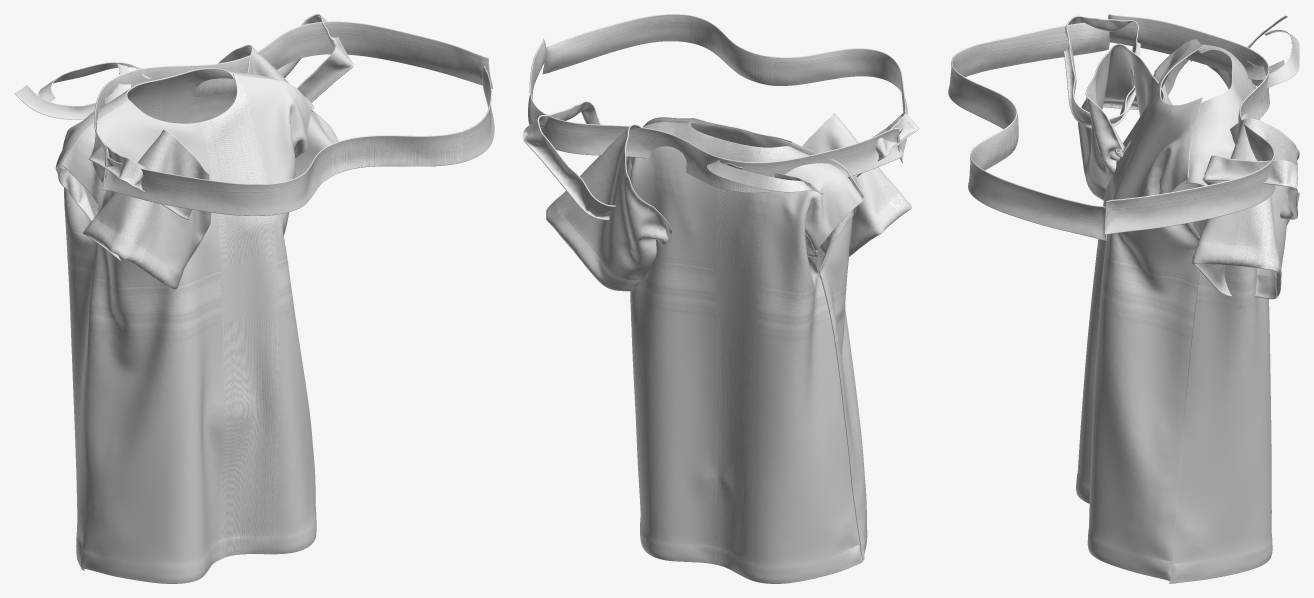
The model's file is tshirt.gltf.
3 views of the same model, side by side, from view 1: azimuth 30°, elevation 25°; view 2: azimuth 150°, elevation 25°; view 3: azimuth 270°, elevation 25° (orthographic). The views are drawn at different scales.
Visible parts, largest first — view 1: 70, Pattern2D_4474558, 28, Pattern2D_4491756, 64, 31, 30, 71, Pattern2D_2949190, 29; view 2: 28, Pattern2D_4474558, 31, Pattern2D_4491756, 70, 64, 30, 29, Pattern2D_2949190; view 3: 70, 28, Pattern2D_4474558, Pattern2D_4491756, 31, 64, 30, Pattern2D_2949190, 29, 71.
Part boxes in pixels (box(x1,y1,x2,y2)): 70: box(61, 74, 316, 583); Pattern2D_4474558: box(102, 66, 494, 215); 28: box(55, 68, 313, 570); Pattern2D_4491756: box(91, 21, 493, 183); 64: box(82, 129, 211, 289); 31: box(218, 45, 338, 177); 30: box(277, 14, 353, 102); 71: box(14, 63, 131, 119); Pattern2D_2949190: box(88, 143, 191, 219); 29: box(38, 62, 151, 101); 28: box(626, 121, 863, 583); Pattern2D_4474558: box(542, 14, 907, 163); 31: box(546, 124, 672, 291); Pattern2D_4491756: box(528, 38, 903, 192); 70: box(643, 117, 867, 560); 64: box(802, 113, 911, 256); 30: box(523, 101, 615, 220); 29: box(706, 160, 812, 192); Pattern2D_2949190: box(856, 112, 919, 176); 70: box(1076, 39, 1203, 581); 28: box(1169, 44, 1272, 583); Pattern2D_4474558: box(948, 22, 1109, 240); Pattern2D_4491756: box(1104, 14, 1275, 234); 31: box(1192, 118, 1299, 299); 64: box(1078, 43, 1164, 200); 30: box(1202, 155, 1299, 219); Pattern2D_2949190: box(1063, 15, 1140, 128); 29: box(1262, 29, 1299, 88); 71: box(1245, 15, 1287, 80).
Size of the model in its own units: 0.3792 by 0.4176 by 0.2908.
1 material, 1 textured.
